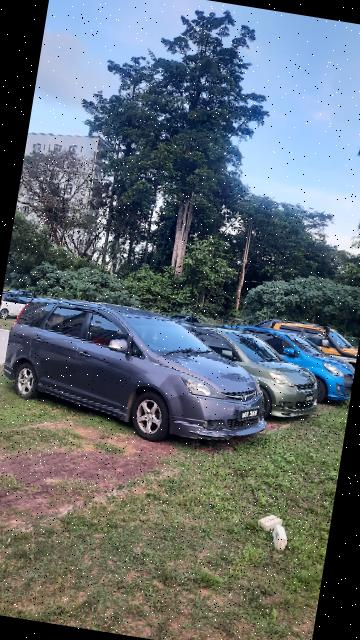License_Plate: (234, 404, 273, 428)
car: (1, 290, 288, 464)
